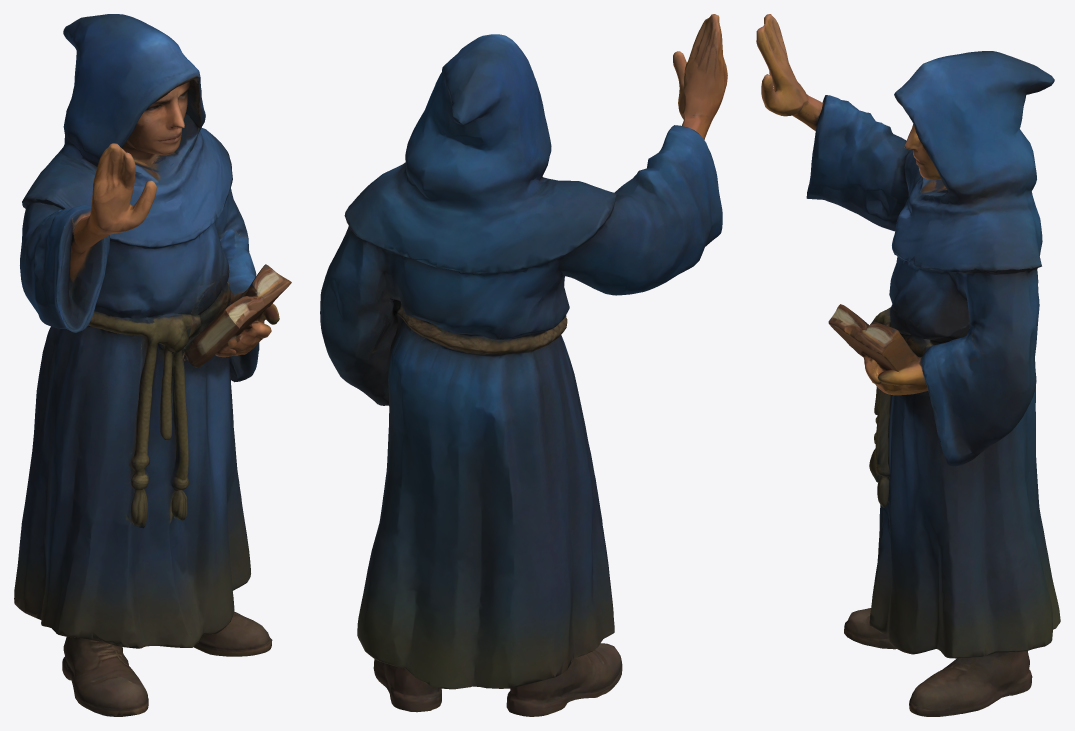
The picture shows the model from 3 angles, left to right: view 1: azimuth 30°, elevation 25°; view 2: azimuth 150°, elevation 25°; view 3: azimuth 270°, elevation 25°; orthographic projection. The views are drawn at different scales.
Parts seen in each view (by area): view 1: Monk; view 2: Monk; view 3: Monk.
Part boxes in pixels (x1,y1,x2,y2): Monk: (14, 14, 291, 716); Monk: (320, 14, 727, 716); Monk: (756, 14, 1060, 716).
Size of the model in its own units: 0.951 by 2 by 0.9065.
1 material, 1 textured.
